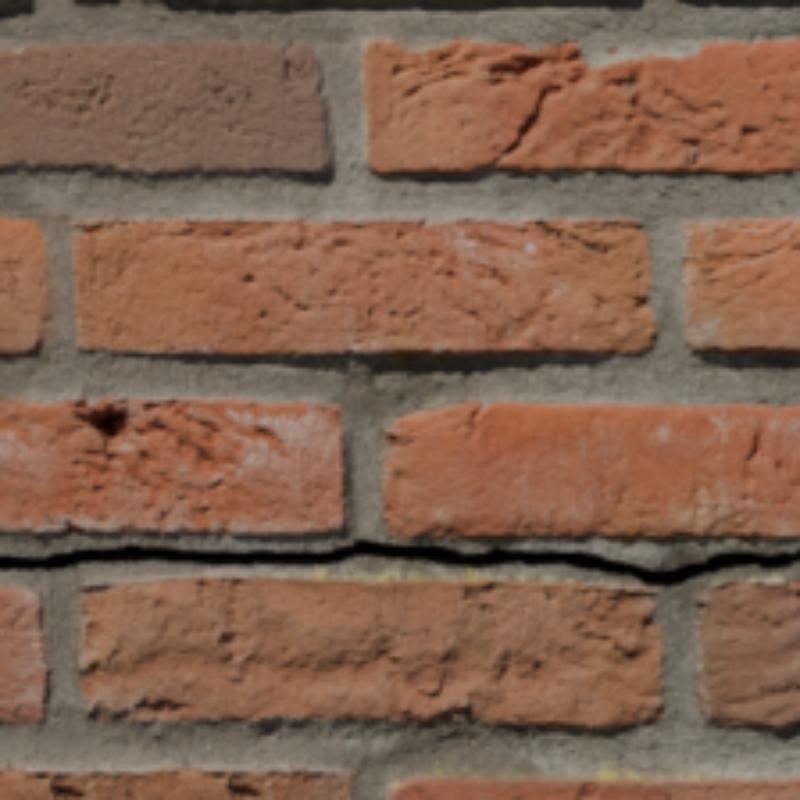pothole: (0, 539, 796, 586), (487, 68, 590, 172)
